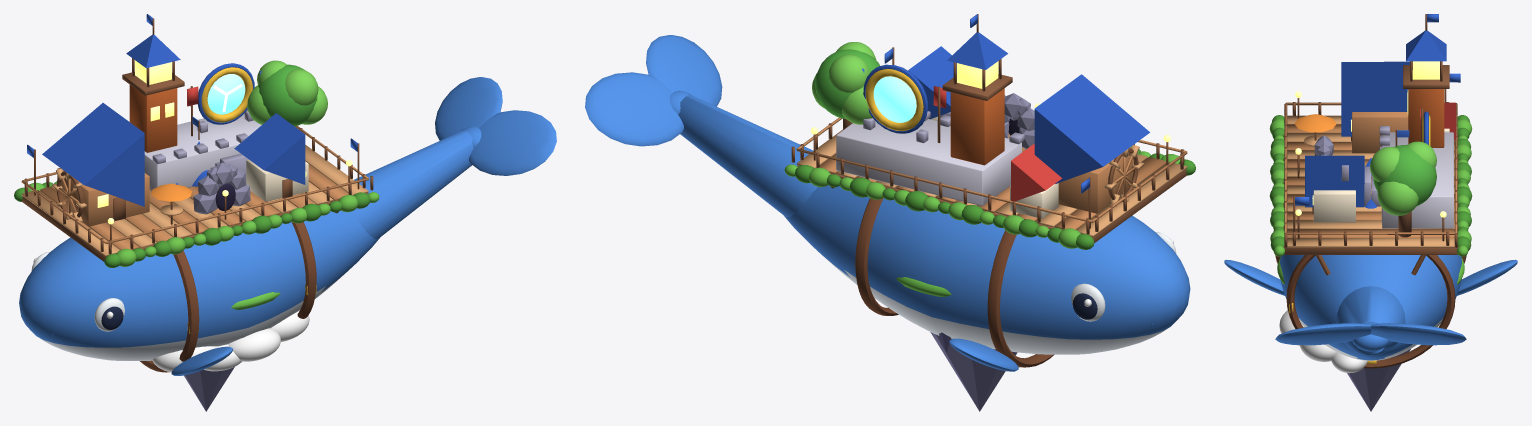
The model's file is sky.glb.
The picture shows the model from 3 angles, left to right: view 1: azimuth 30°, elevation 25°; view 2: azimuth 150°, elevation 25°; view 3: azimuth 270°, elevation 25°; orthographic projection. The views are drawn at different scales.
Visible parts, largest first — view 1: SkyWhale_deco, SkyWhale, SkyWhale_tail, SkyCastle, SkyWhale_finL; view 2: SkyWhale_deco, SkyWhale, SkyWhale_tail, SkyCastle, SkyWhale_finR; view 3: SkyWhale_deco, SkyWhale, SkyWhale_tail, SkyCastle, SkyWhale_finL, SkyWhale_finR.
Boxes of the visible parts, x1=… form: SkyWhale_deco: x1=14, y1=14, x2=379, y2=372; SkyWhale: x1=19, y1=210, x2=379, y2=360; SkyWhale_tail: x1=350, y1=77, x2=556, y2=238; SkyCastle: x1=152, y1=116, x2=309, y2=411; SkyWhale_finL: x1=171, y1=346, x2=232, y2=375; SkyWhale_deco: x1=784, y1=14, x2=1195, y2=367; SkyWhale: x1=784, y1=185, x2=1190, y2=354; SkyWhale_tail: x1=585, y1=35, x2=817, y2=217; SkyCastle: x1=896, y1=277, x2=1017, y2=411; SkyWhale_finR: x1=949, y1=338, x2=1018, y2=371; SkyWhale_deco: x1=1269, y1=14, x2=1472, y2=368; SkyWhale: x1=1280, y1=255, x2=1461, y2=360; SkyWhale_tail: x1=1275, y1=286, x2=1466, y2=356; SkyCastle: x1=1277, y1=130, x2=1464, y2=411; SkyWhale_finL: x1=1224, y1=259, x2=1284, y2=295; SkyWhale_finR: x1=1457, y1=259, x2=1517, y2=295.
Bounding box in the file's own units: 27.3 × 19.95 × 13.78.
